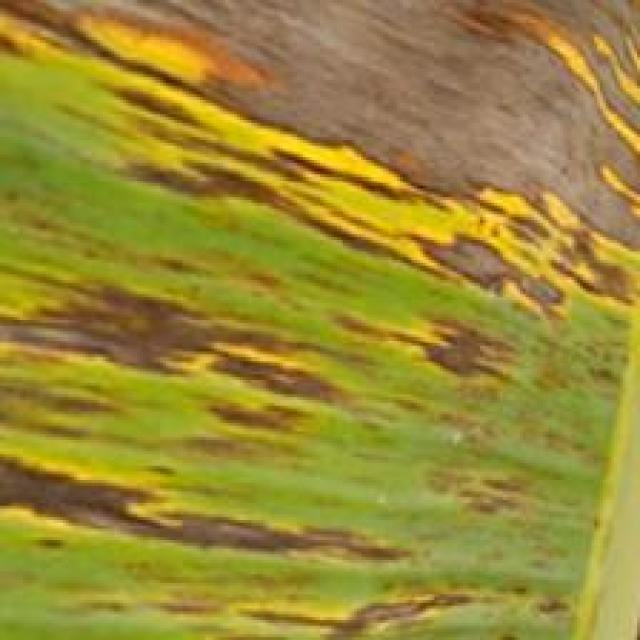Early_leaf_spot: (0, 280, 626, 640), (0, 0, 637, 330)
